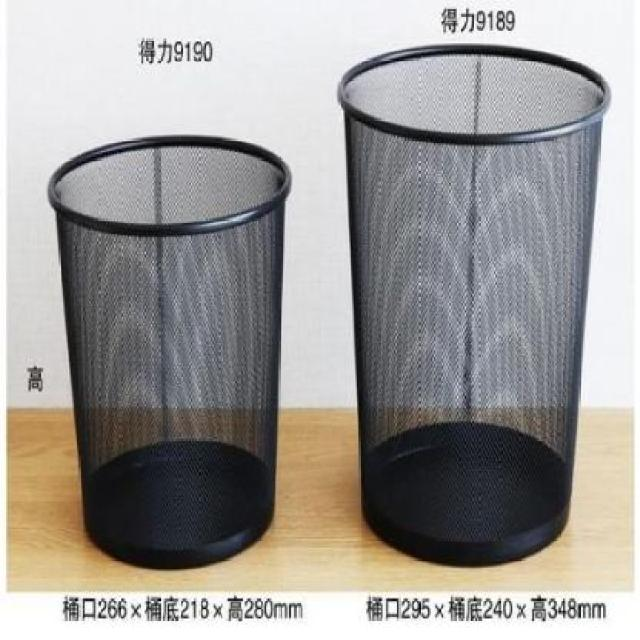dustbin: (334, 37, 614, 574), (43, 127, 295, 578)
